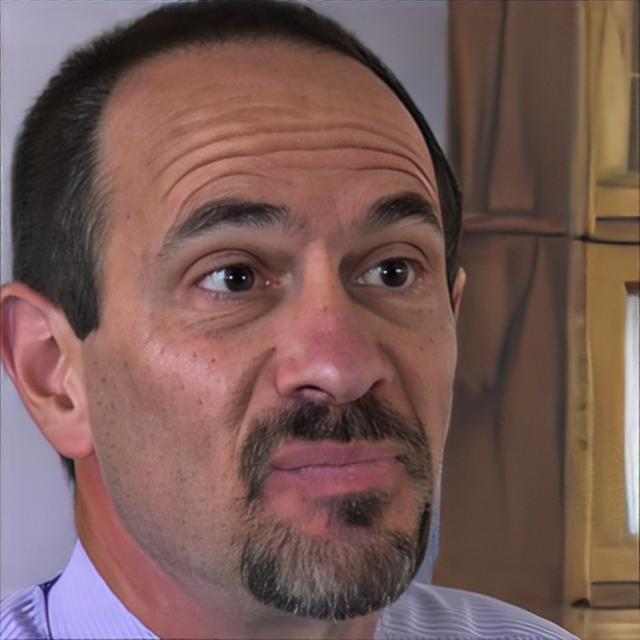surprise: (92, 78, 458, 625)
